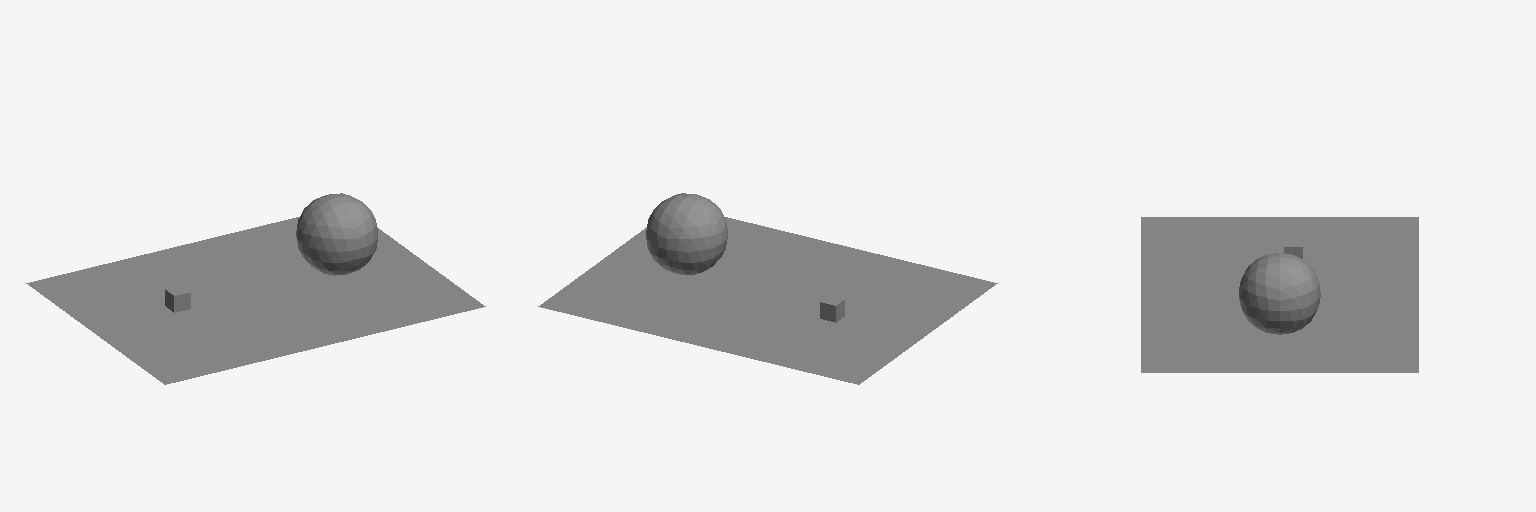
File: Third.obj
The picture shows the model from 3 angles: view 1: azimuth 30°, elevation 25°; view 2: azimuth 150°, elevation 25°; view 3: azimuth 270°, elevation 25°; orthographic projection.
Visible parts, largest first — view 1: Box001, Sphere001, Box002; view 2: Box001, Sphere001, Box002; view 3: Box001, Sphere001.
Boxes of the visible parts, x1=… form: Box001: x1=26, y1=217, x2=485, y2=384; Sphere001: x1=296, y1=193, x2=377, y2=275; Box002: x1=165, y1=286, x2=190, y2=312; Box001: x1=538, y1=217, x2=997, y2=384; Sphere001: x1=646, y1=193, x2=727, y2=275; Box002: x1=820, y1=295, x2=844, y2=322; Box001: x1=1141, y1=217, x2=1418, y2=372; Sphere001: x1=1239, y1=253, x2=1320, y2=334.
Size of the model in its own units: 200 by 46.55 by 150.